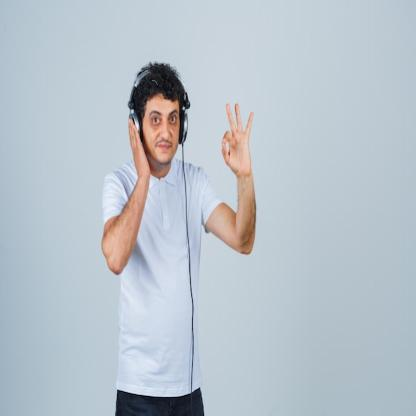ok: (218, 100, 256, 180)
